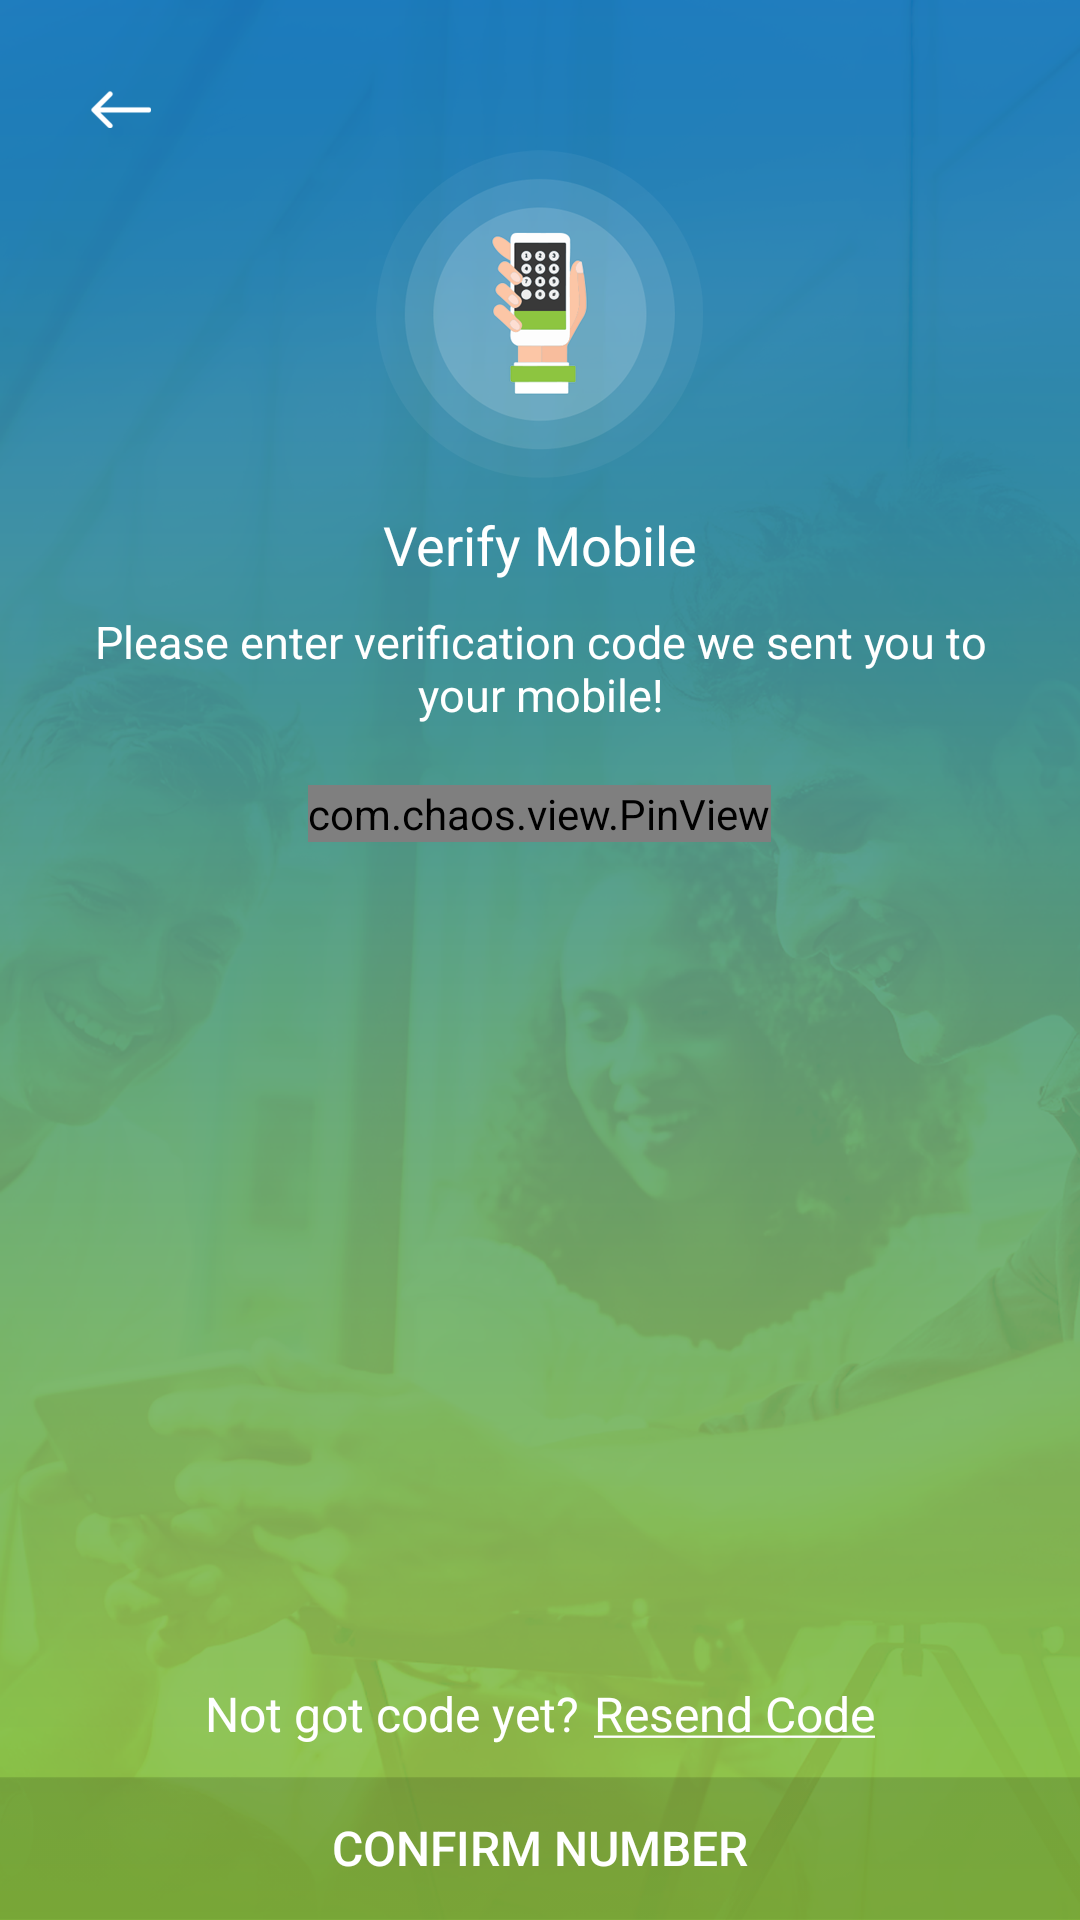

Named icons in this screenshot (1080 x 1920) and their centers, (x,y):
back: (121,109)
